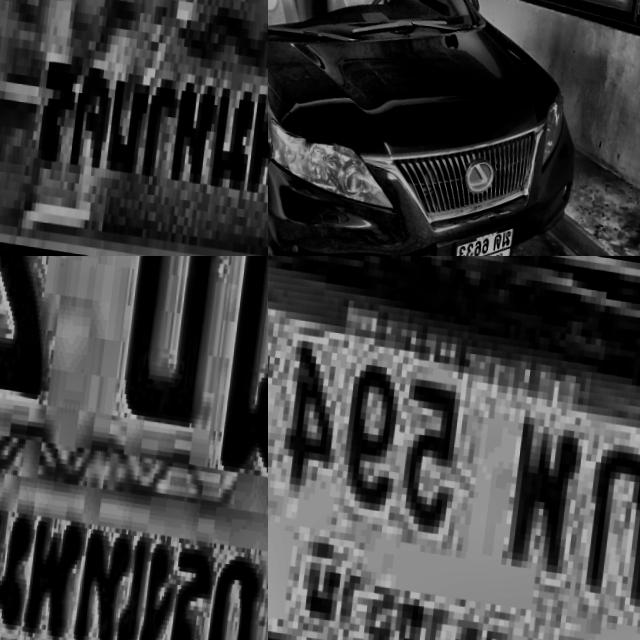license-plate: (268, 256, 640, 640), (0, 256, 268, 640), (0, 0, 268, 256), (450, 206, 518, 256)
